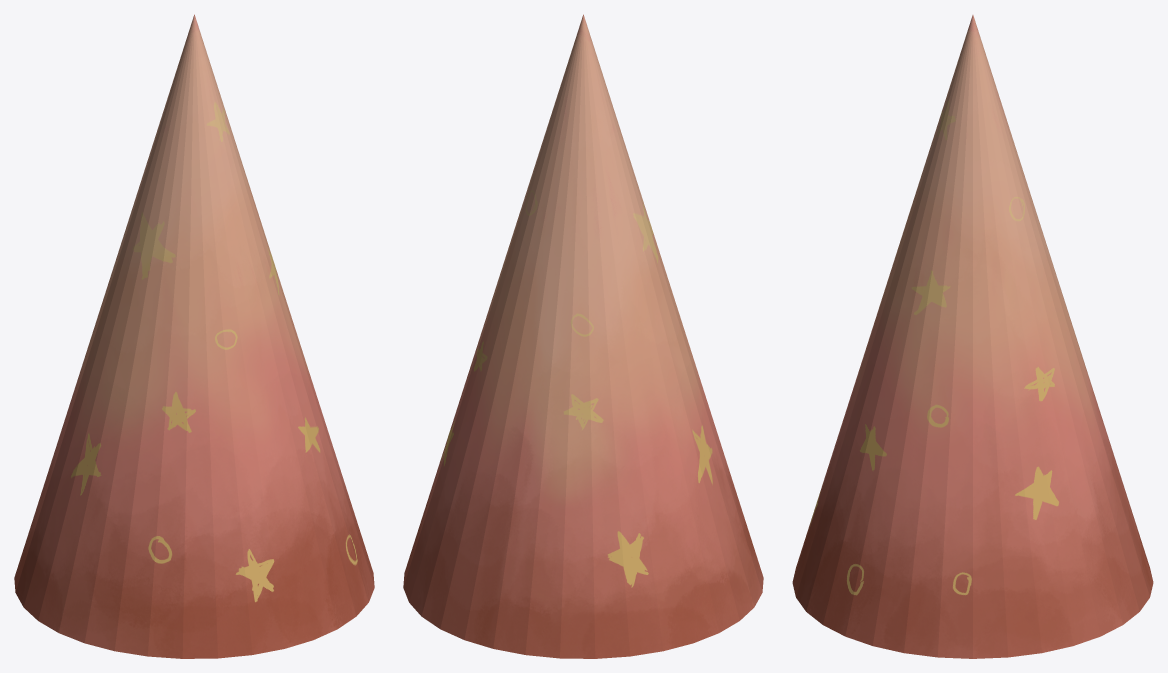
The model's file is hat2.glb.
3 renders of one model, left to right at view 1: azimuth 30°, elevation 25°; view 2: azimuth 150°, elevation 25°; view 3: azimuth 270°, elevation 25°, orthographic.
Parts seen in each view (by area): view 1: Birthday-Hat; view 2: Birthday-Hat; view 3: Birthday-Hat.
Part boxes in pixels (x1,y1,x2,y2): Birthday-Hat: (14, 14, 374, 658); Birthday-Hat: (403, 14, 763, 658); Birthday-Hat: (792, 15, 1153, 658).
Bounding box in the file's own units: 0.1641 × 0.2852 × 0.1641.
1 material, 1 textured.
